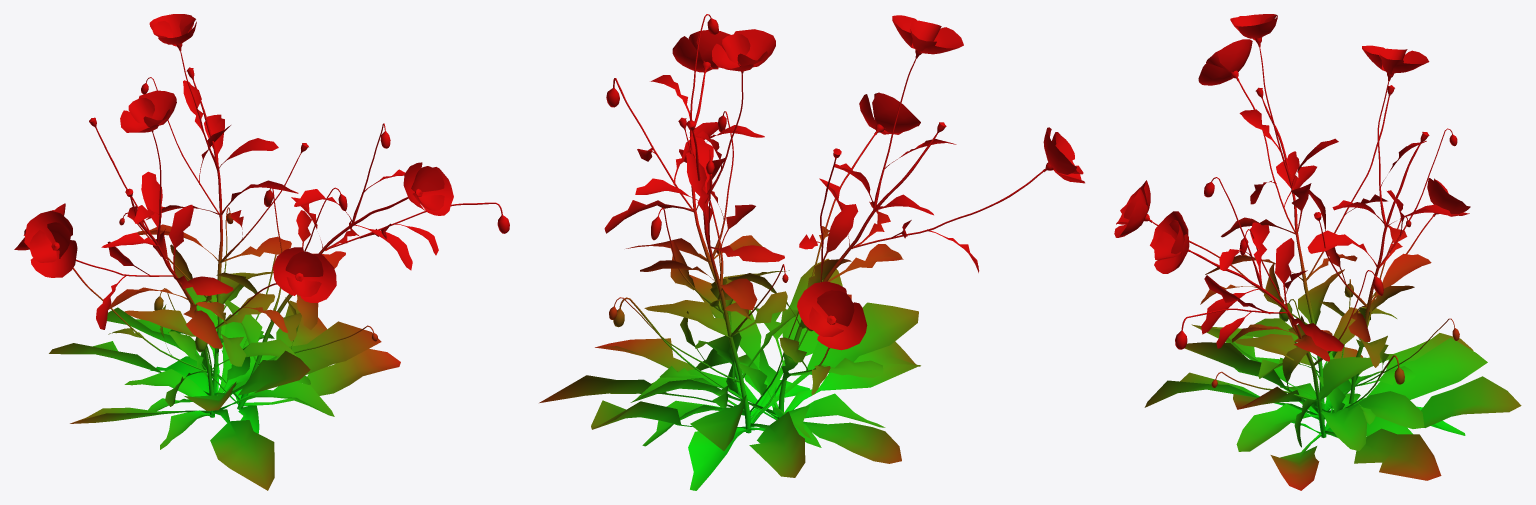
The model's file is Field Poppy_LOD0_Var7_vmcobd0ja.fbx.
3 renders of one model, left to right at view 1: azimuth 30°, elevation 25°; view 2: azimuth 150°, elevation 25°; view 3: azimuth 270°, elevation 25°, orthographic. The views are drawn at different scales.
Visible parts, largest first — view 1: _crid_Var7_LOD0; view 2: _crid_Var7_LOD0; view 3: _crid_Var7_LOD0.
Boxes of the visible parts, x1=… form: _crid_Var7_LOD0: x1=14, y1=14, x2=509, y2=490; _crid_Var7_LOD0: x1=539, y1=14, x2=1084, y2=490; _crid_Var7_LOD0: x1=1114, y1=14, x2=1521, y2=490.
Bounding box in the file's own units: 62.78 × 50.35 × 48.61.
